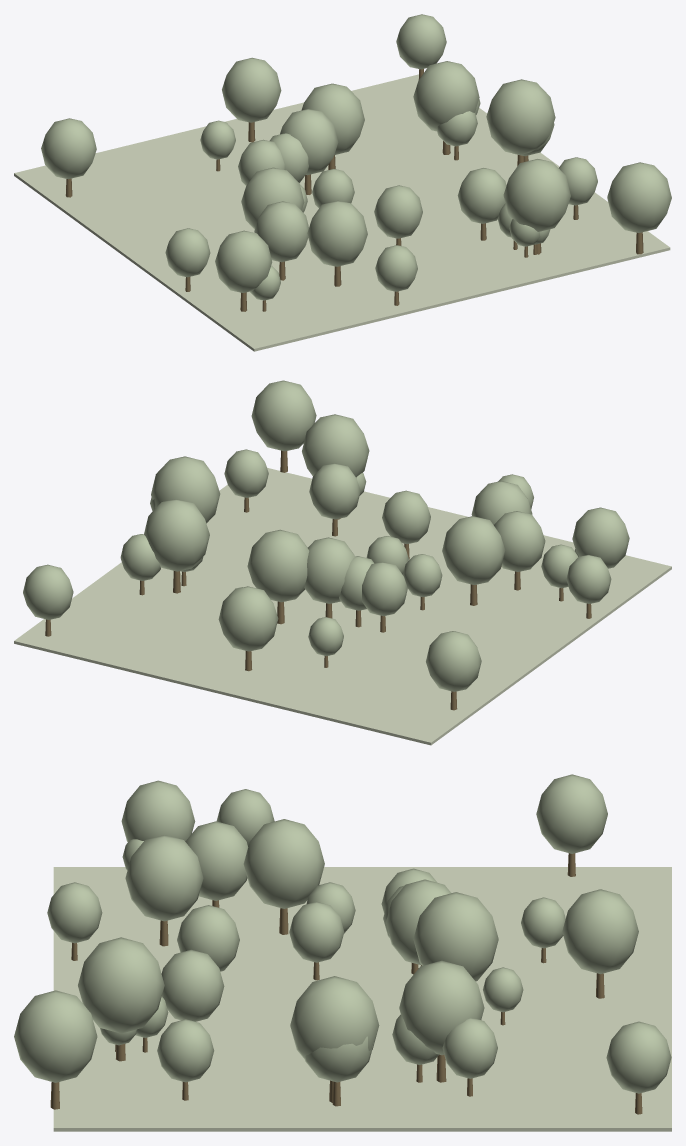
The picture shows the model from 3 angles, top to bottom: view 1: azimuth 30°, elevation 25°; view 2: azimuth 150°, elevation 25°; view 3: azimuth 270°, elevation 25°; orthographic projection. The views are drawn at different scales.
Visible parts, largest first — view 1: terrain, lod-near-30, lod-near-11, lod-near-3, lod-near-16, lod-near-17, lod-near-10, lod-near-14, lod-near-31, lod-near-19, lod-near-2, lod-near-12 (+14 smaller); view 2: terrain, lod-near-16, lod-near-2, lod-near-3, lod-near-22, lod-near-11, lod-near-10, lod-near-30, lod-near-31, lod-near-14, lod-near-12, lod-near-19 (+13 smaller); view 3: terrain, lod-near-11, lod-near-3, lod-near-22, lod-near-2, lod-near-30, lod-near-16, lod-near-17, lod-near-10, lod-near-31, lod-near-27, lod-near-28 (+16 smaller).
Boxes of the visible parts, left/top/right/bottom form: terrain: left=14, top=74, right=670, bottom=351; lod-near-30: left=486, top=79, right=555, bottom=154; lod-near-11: left=503, top=159, right=570, bottom=231; lod-near-3: left=607, top=162, right=671, bottom=232; lod-near-16: left=413, top=61, right=479, bottom=131; lod-near-17: left=307, top=200, right=367, bottom=266; lod-near-10: left=222, top=57, right=281, bottom=122; lod-near-14: left=215, top=230, right=272, bottom=292; lod-near-31: left=41, top=118, right=96, bottom=179; lod-near-19: left=254, top=201, right=308, bottom=262; lod-near-2: left=301, top=83, right=364, bottom=154; lod-near-12: left=280, top=109, right=338, bottom=175; terrain: left=14, top=467, right=671, bottom=745; lod-near-16: left=144, top=499, right=209, bottom=571; lod-near-2: left=247, top=529, right=309, bottom=602; lod-near-3: left=251, top=380, right=316, bottom=451; lod-near-22: left=442, top=516, right=505, bottom=584; lod-near-11: left=302, top=414, right=369, bottom=477; lod-near-10: left=218, top=586, right=278, bottom=651; lod-near-30: left=151, top=456, right=220, bottom=523; lod-near-31: left=426, top=631, right=481, bottom=691; lod-near-14: left=572, top=507, right=629, bottom=568; lod-near-12: left=304, top=537, right=354, bottom=603; lod-near-19: left=494, top=511, right=545, bottom=571; terrain: left=53, top=867, right=671, bottom=1131; lod-near-11: left=78, top=937, right=164, bottom=1033; lod-near-3: left=14, top=990, right=97, bottom=1082; lod-near-22: left=243, top=819, right=324, bottom=908; lod-near-2: left=413, top=892, right=498, bottom=981; lod-near-30: left=290, top=976, right=379, bottom=1059; lod-near-16: left=399, top=960, right=484, bottom=1055; lod-near-17: left=125, top=835, right=203, bottom=921; lod-near-10: left=562, top=889, right=638, bottom=974; lod-near-31: left=536, top=774, right=607, bottom=853; lod-near-27: left=606, top=1021, right=671, bottom=1093; lod-near-28: left=161, top=949, right=224, bottom=1021.
Bounding box in the file's own units: 32.91 × 7.28 × 34.06.
